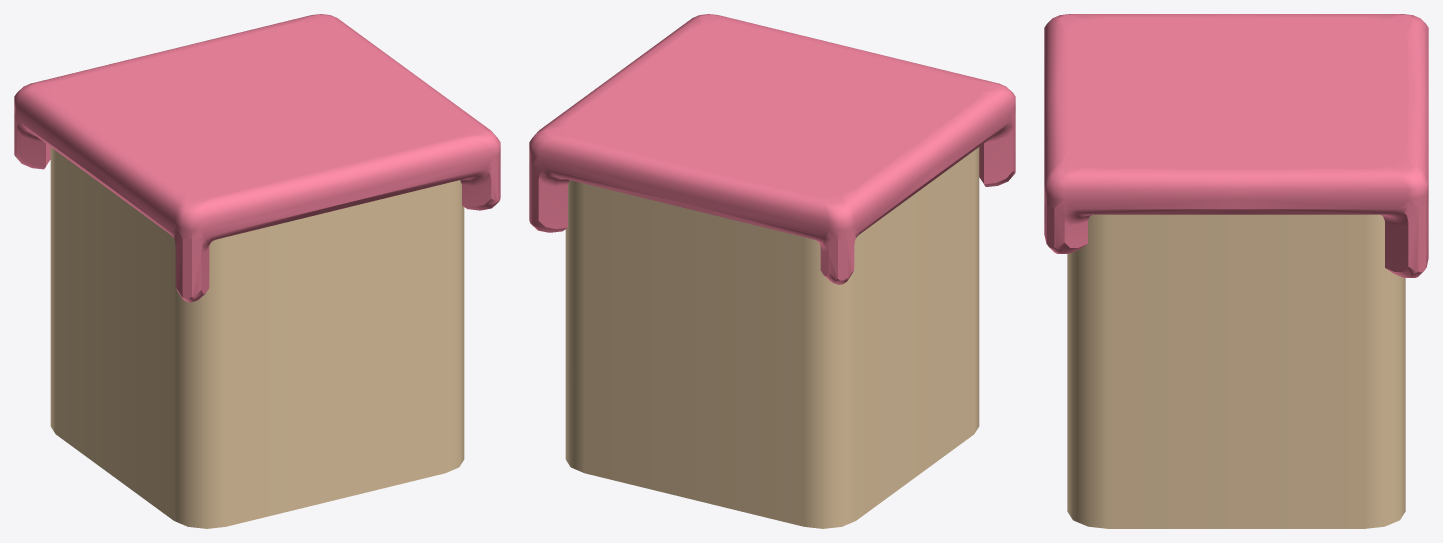
Rendered from SM_Mountain_4.fbx.
3 renders of one model, left to right at view 1: azimuth 30°, elevation 25°; view 2: azimuth 150°, elevation 25°; view 3: azimuth 270°, elevation 25°, orthographic. The views are drawn at different scales.
Parts seen in each view (by area): view 1: SM_Mountain_4; view 2: SM_Mountain_4; view 3: SM_Mountain_4.
Boxes of the visible parts, <box> form: SM_Mountain_4: <box>14,14,500,528</box>; SM_Mountain_4: <box>529,14,1015,528</box>; SM_Mountain_4: <box>1044,14,1428,528</box>.
Size of the model in its own units: 2255 by 2228 by 2154.
1 material, 1 textured.
